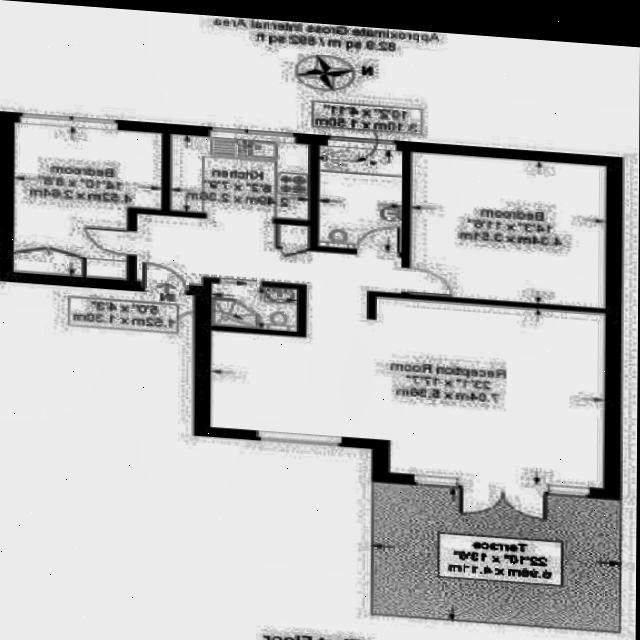room: (114, 132, 633, 493), (400, 152, 616, 309), (3, 122, 166, 282), (318, 145, 403, 252), (209, 283, 301, 332)
